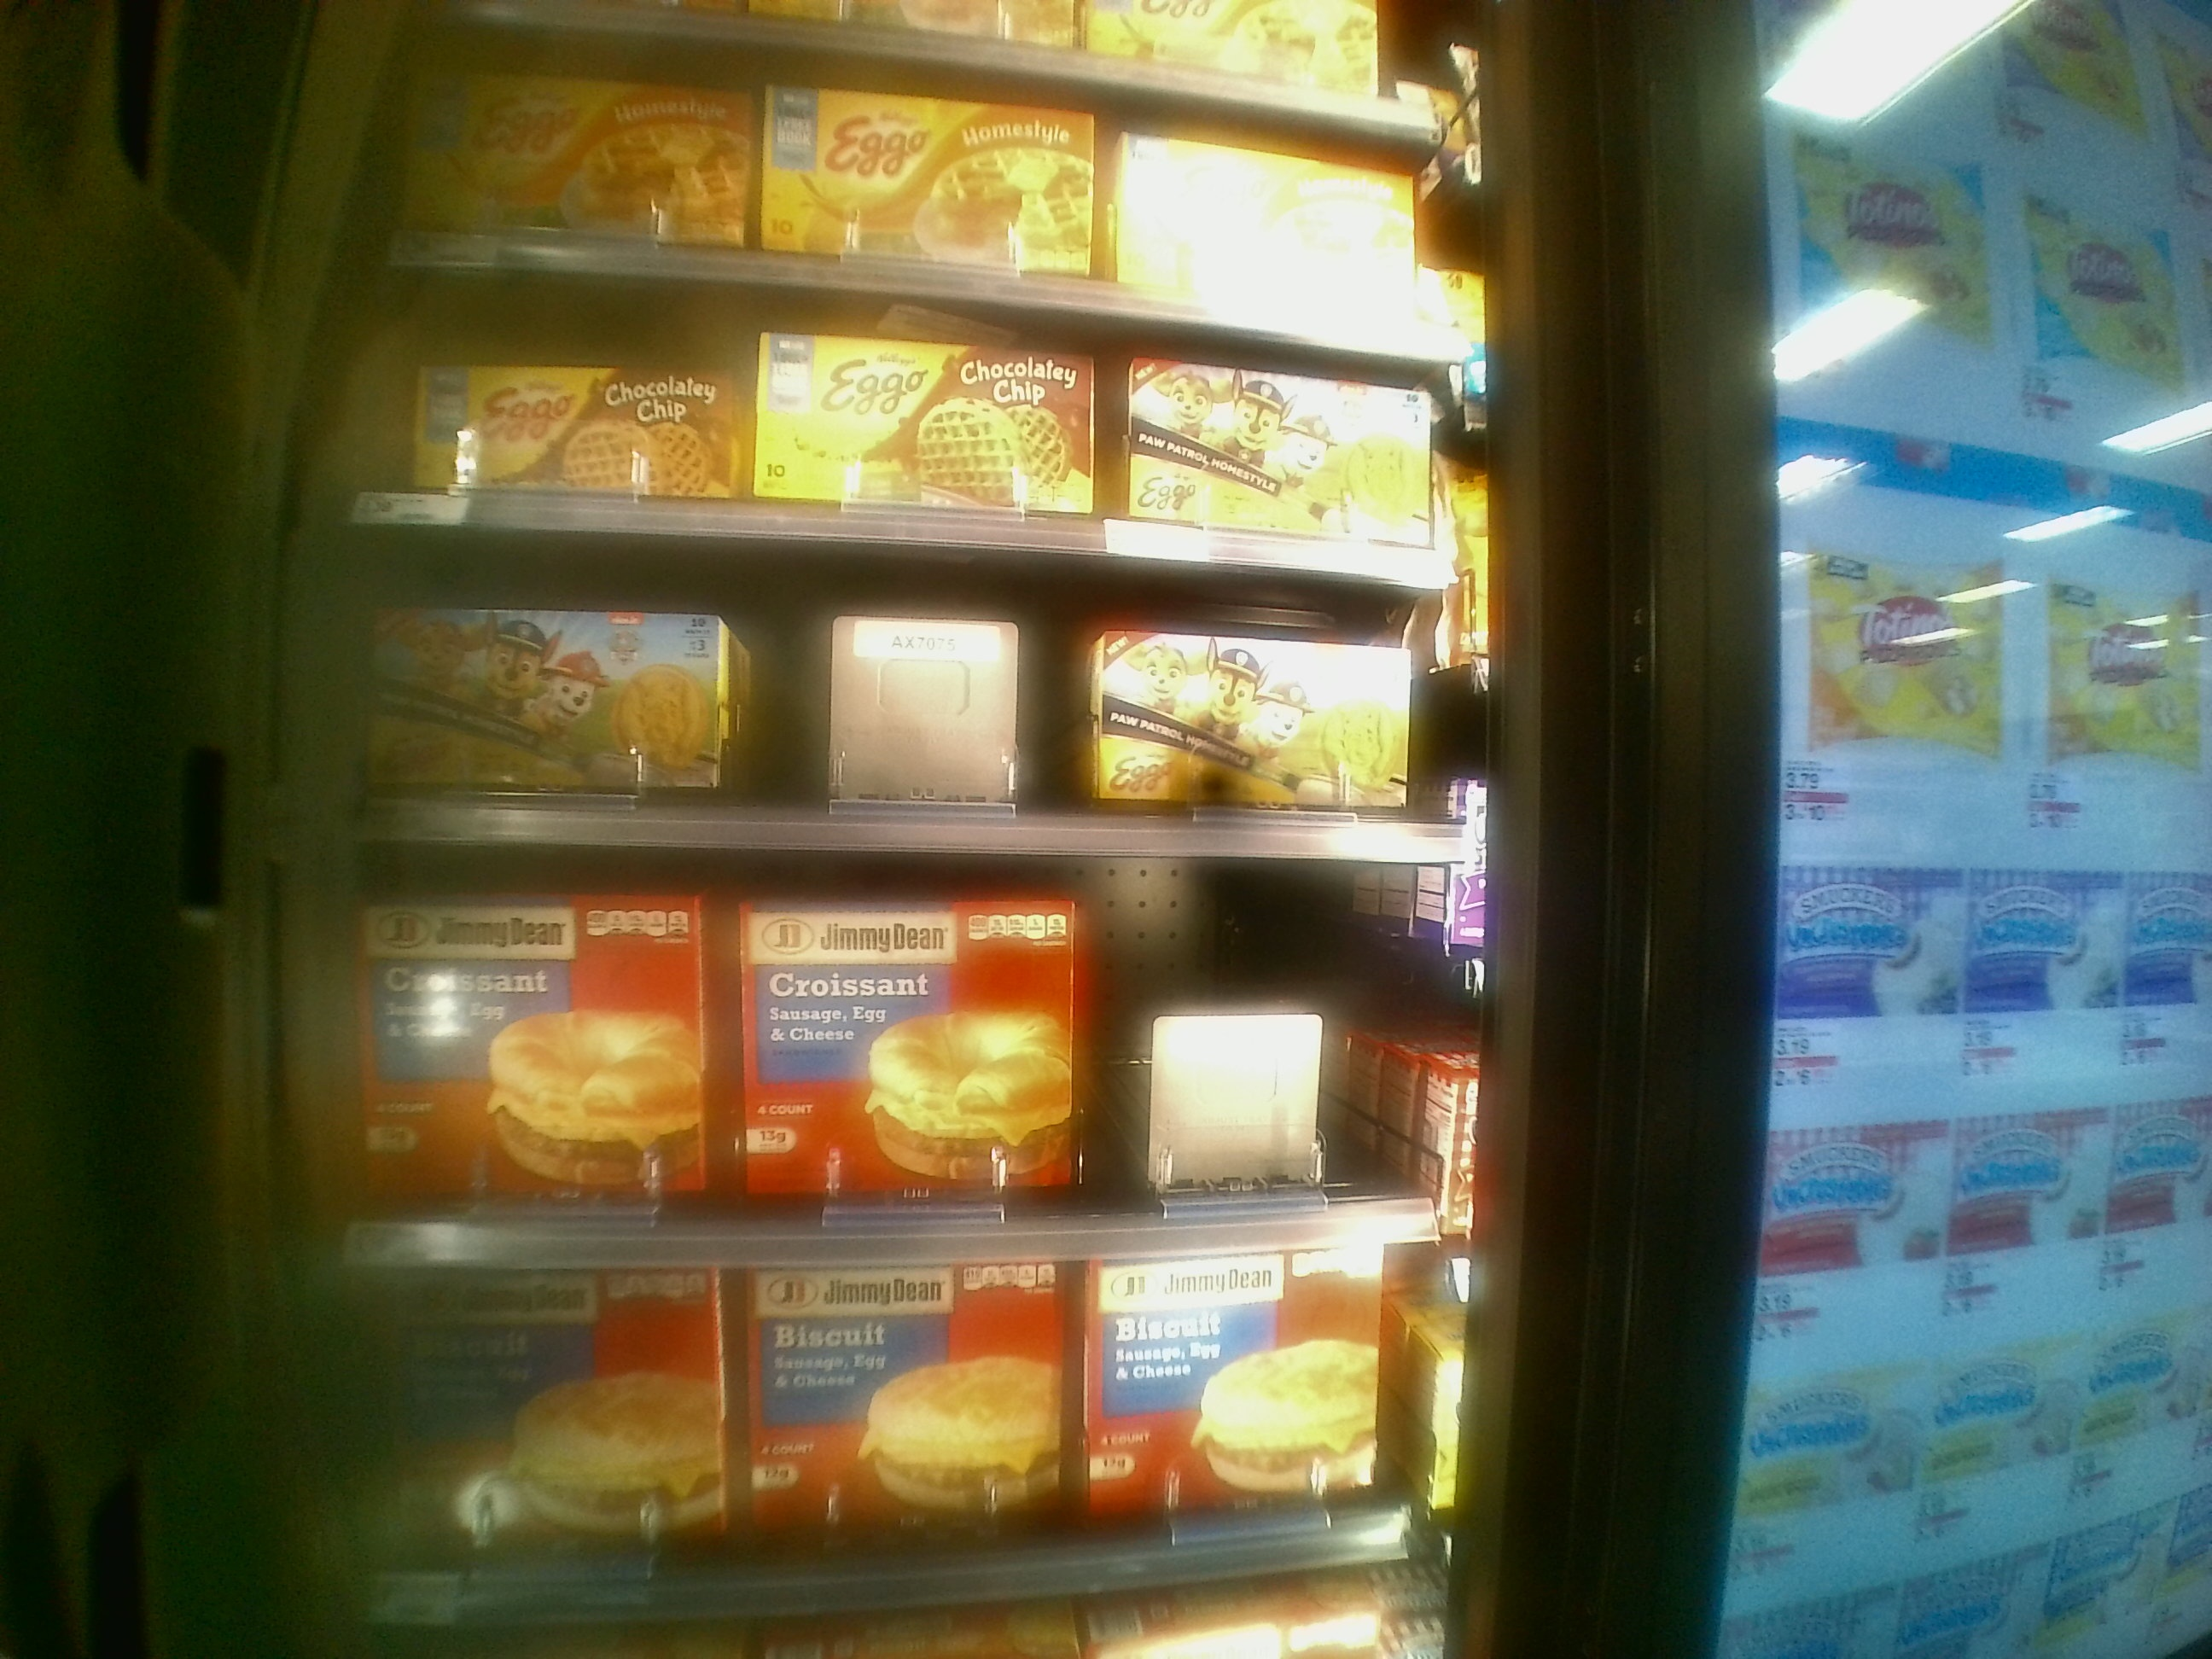shelf: (307, 847, 1474, 1256), (340, 535, 1493, 863), (348, 251, 1475, 575)
